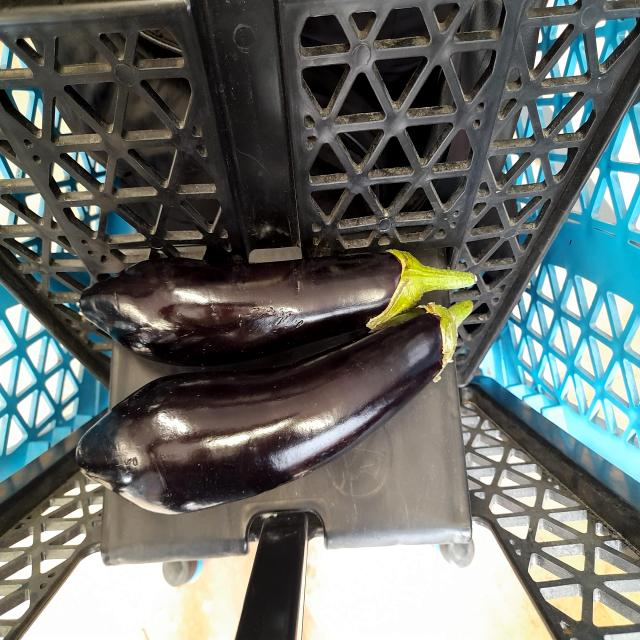eggplant: (70, 294, 492, 520), (66, 227, 478, 371)
